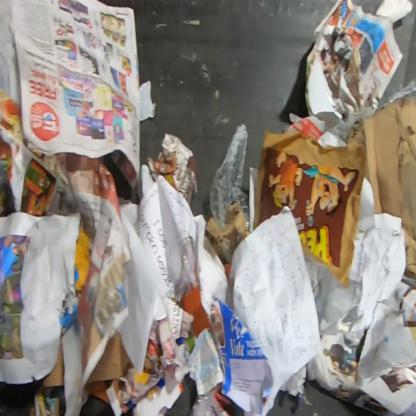cardboard: (344, 94, 415, 281), (284, 32, 363, 150), (153, 133, 199, 206), (204, 202, 251, 264), (84, 331, 133, 386), (188, 382, 233, 416), (42, 342, 64, 388)
soft_plastic: (325, 77, 415, 141), (209, 121, 250, 233), (224, 243, 232, 264)
